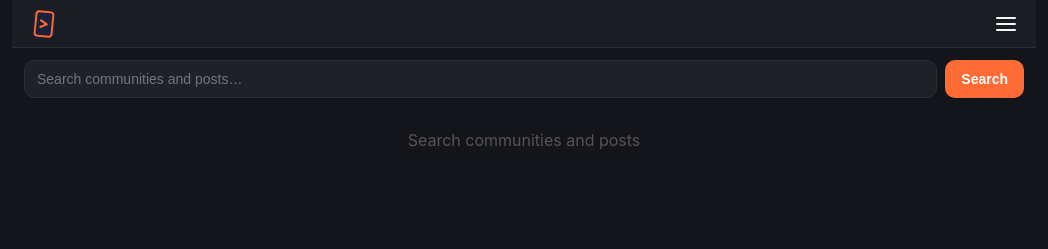
Test: SearchPage › renders community results after searching
The image size is (1048, 249).
Type "rust" into the search field at (481, 79), box [24,60,937,98]
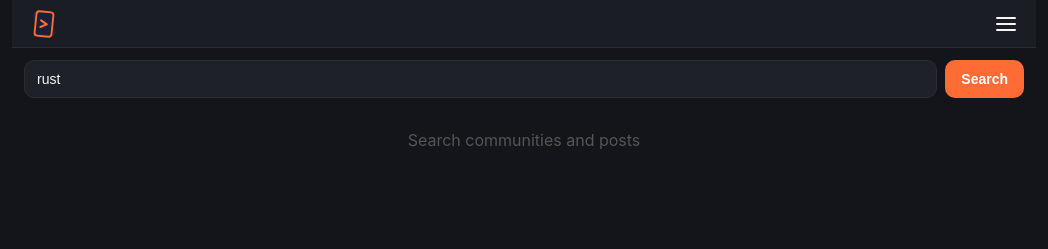
Click the button "Search" at (985, 79), box [945,60,1024,98]
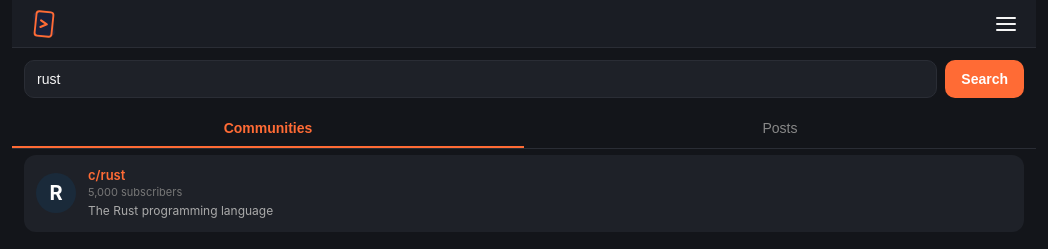
Check: the text "c/rust" is shown, box [88,167,125,183]
Check: the text "5,000 subscribers" is shown, box [88,185,182,199]
